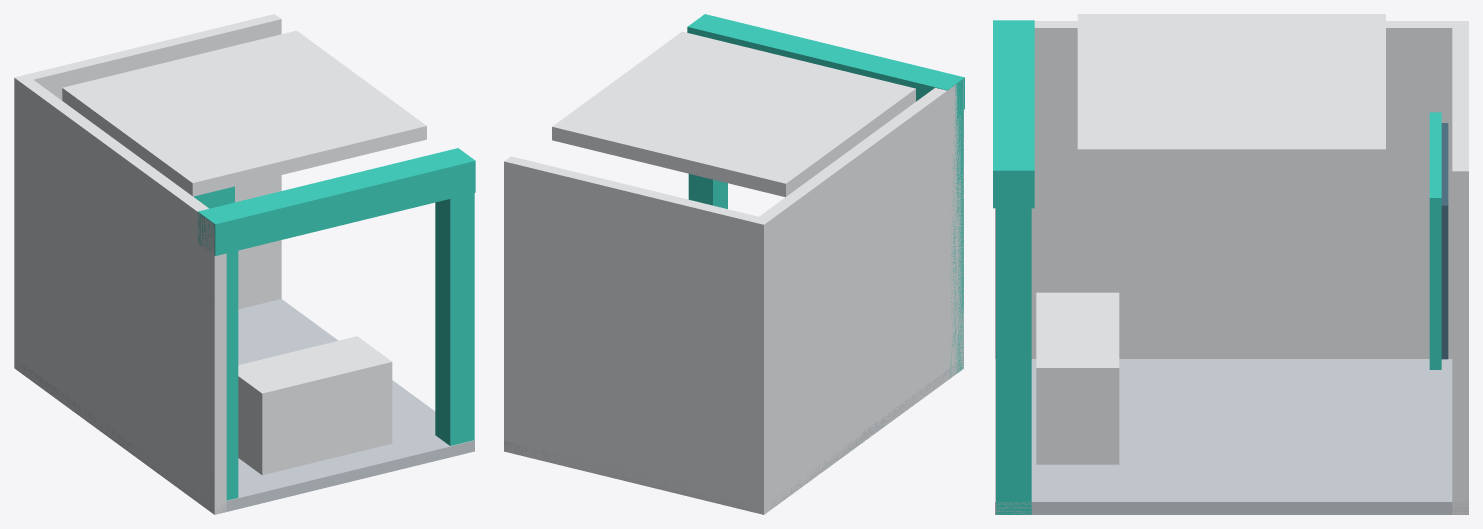
The picture shows the model from 3 angles, left to right: view 1: azimuth 30°, elevation 25°; view 2: azimuth 150°, elevation 25°; view 3: azimuth 270°, elevation 25°; orthographic projection. The views are drawn at different scales.
Visible parts, largest first — view 1: Exhibition Booth Concept; view 2: Exhibition Booth Concept; view 3: Exhibition Booth Concept.
Boxes of the visible parts, x1=… form: Exhibition Booth Concept: x1=14, y1=14, x2=475, y2=514; Exhibition Booth Concept: x1=504, y1=14, x2=964, y2=514; Exhibition Booth Concept: x1=993, y1=14, x2=1468, y2=514.
Size of the model in its own units: 3 by 3.34 by 4.02.
